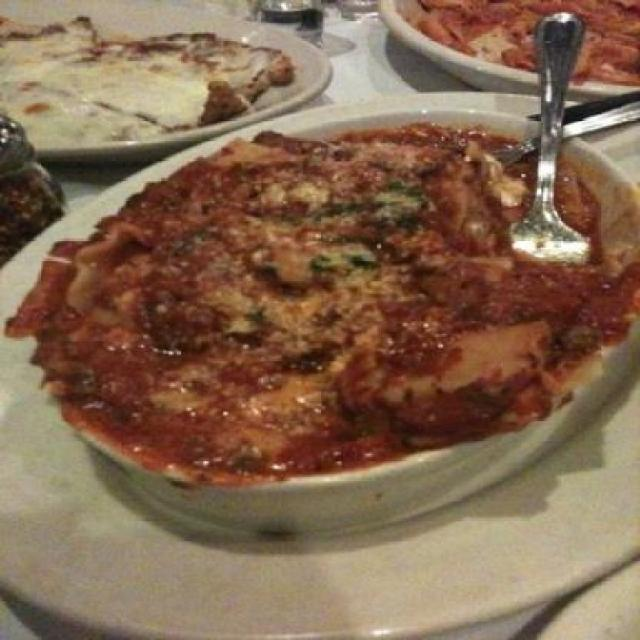Lasagna: (49, 119, 638, 506)
